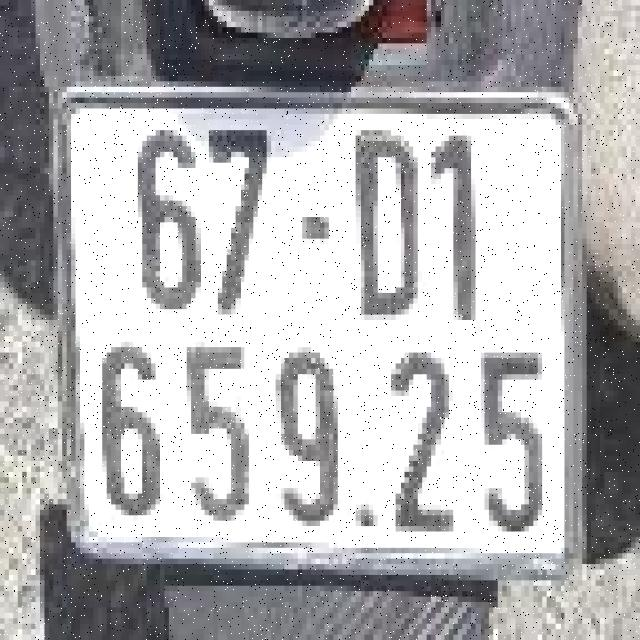2: (424, 119, 504, 331), (380, 331, 460, 537)
5: (178, 328, 258, 534), (469, 336, 549, 537)
6: (124, 116, 204, 322), (87, 333, 171, 529)
7: (209, 106, 275, 317)
9: (267, 326, 351, 542)
D: (340, 122, 429, 328)
